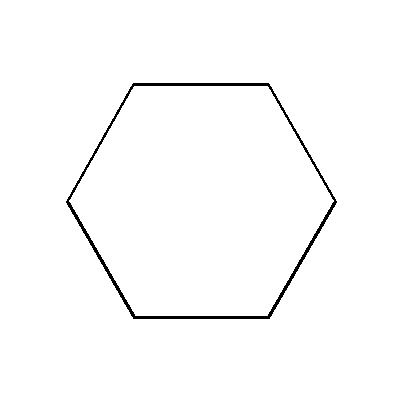line_segment: (66, 82, 337, 320)
